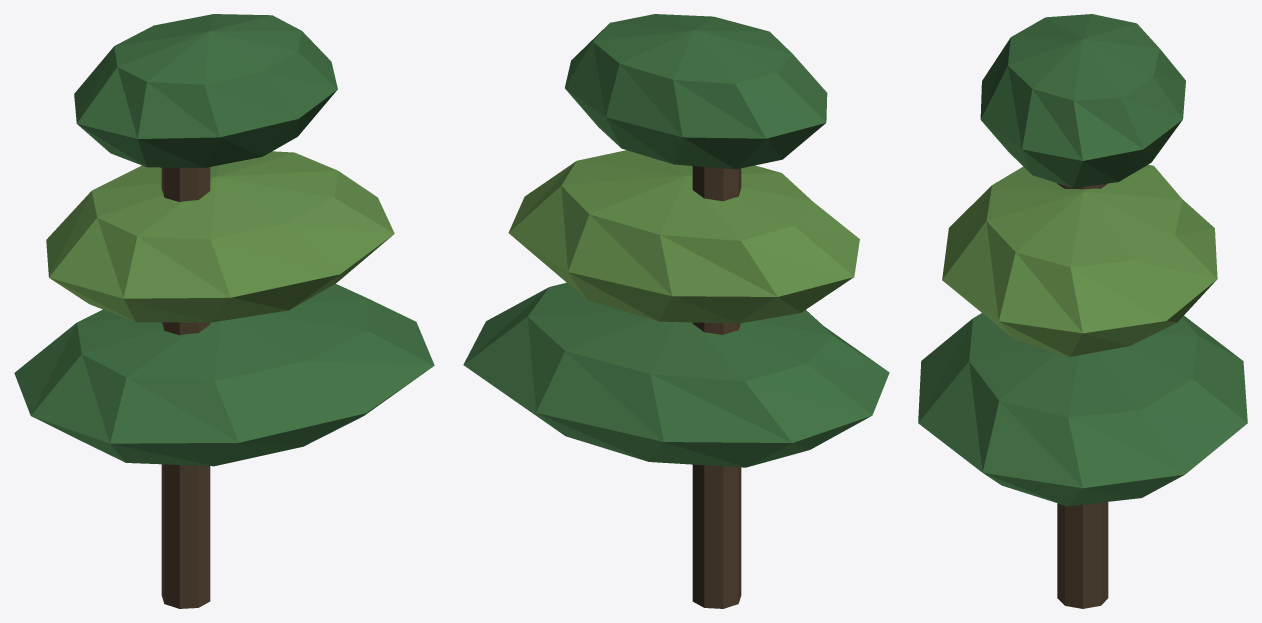
The model's file is tree_pruned_tier.glb.
3 views of the same model, side by side, from view 1: azimuth 30°, elevation 25°; view 2: azimuth 150°, elevation 25°; view 3: azimuth 270°, elevation 25° (orthographic).
Visible parts, largest first — view 1: tree_pruned_tier; view 2: tree_pruned_tier; view 3: tree_pruned_tier.
Boxes of the visible parts, <box> form: tree_pruned_tier: <box>14,14,434,608</box>; tree_pruned_tier: <box>463,14,889,608</box>; tree_pruned_tier: <box>918,14,1247,608</box>.
Size of the model in its own units: 3.02 by 4.2 by 2.2.
